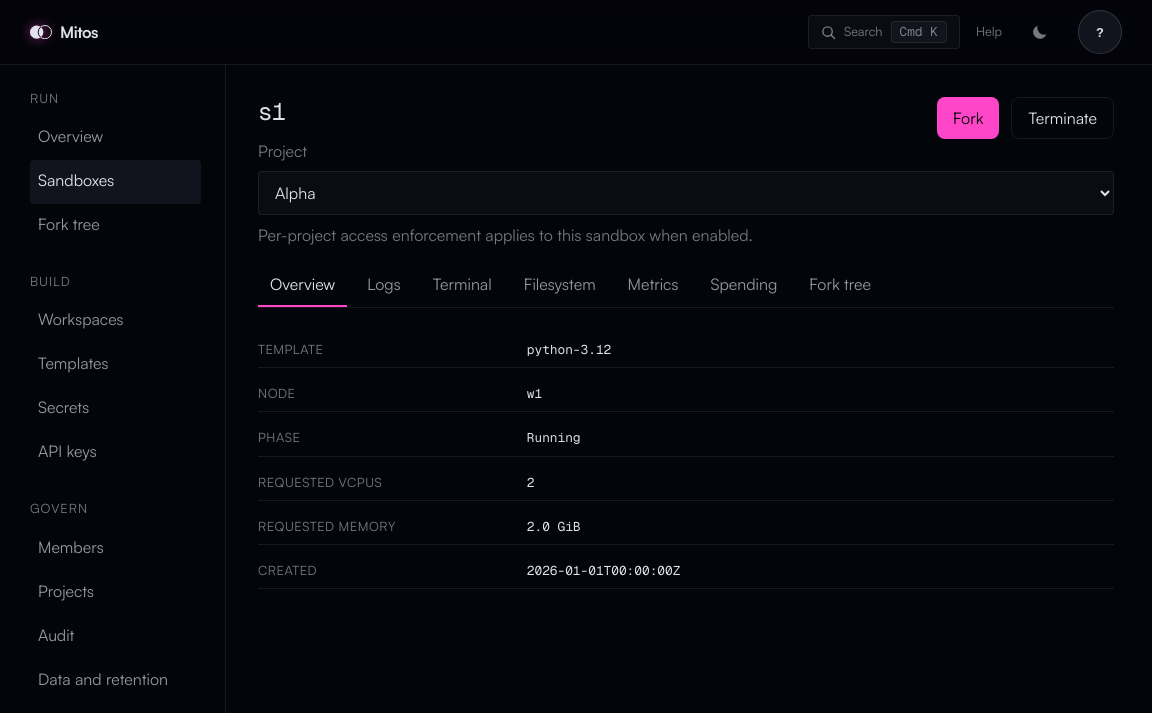
SandboxDetail › Logs tab Live toggle switches to the SSE stream
This screenshot has width=1152, height=713.
Expected: the heading "s1" is shown, [258,100,285,124]
Click the tab "Logs": point(384, 285) [355,263,413,307]
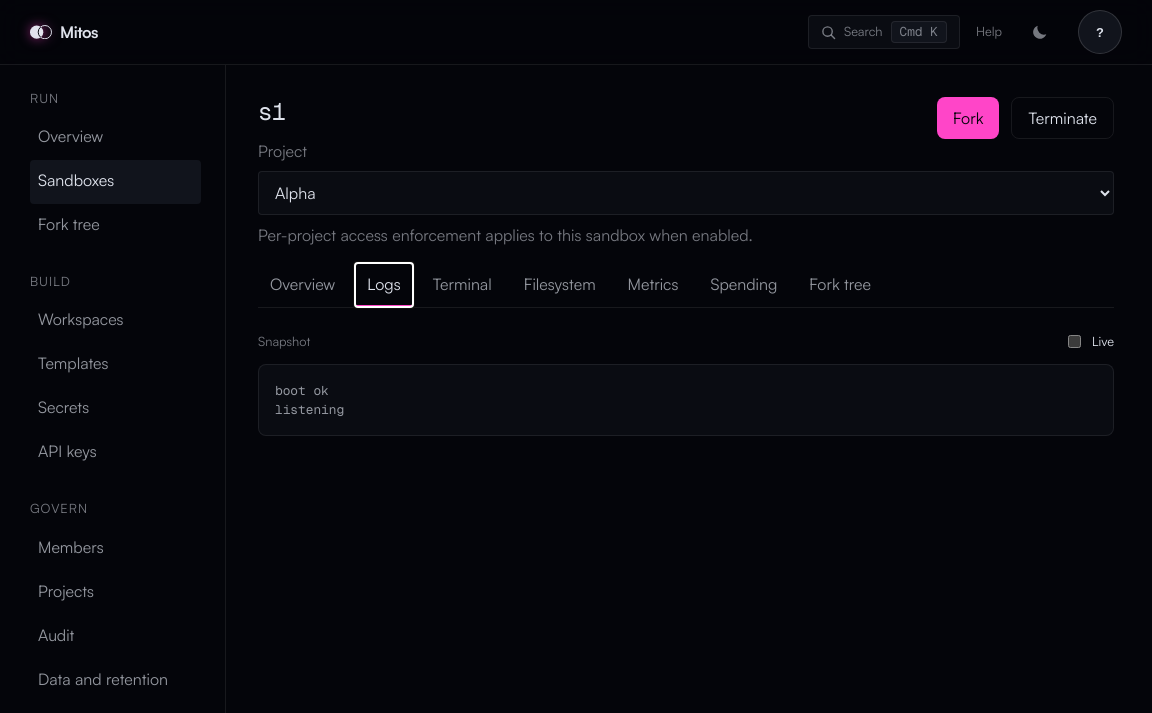
Expected: the text "boot ok listening" is shown, [258,364,1114,436]
Click the checkbox named "live logs": point(1074, 342) [1068,335,1081,348]
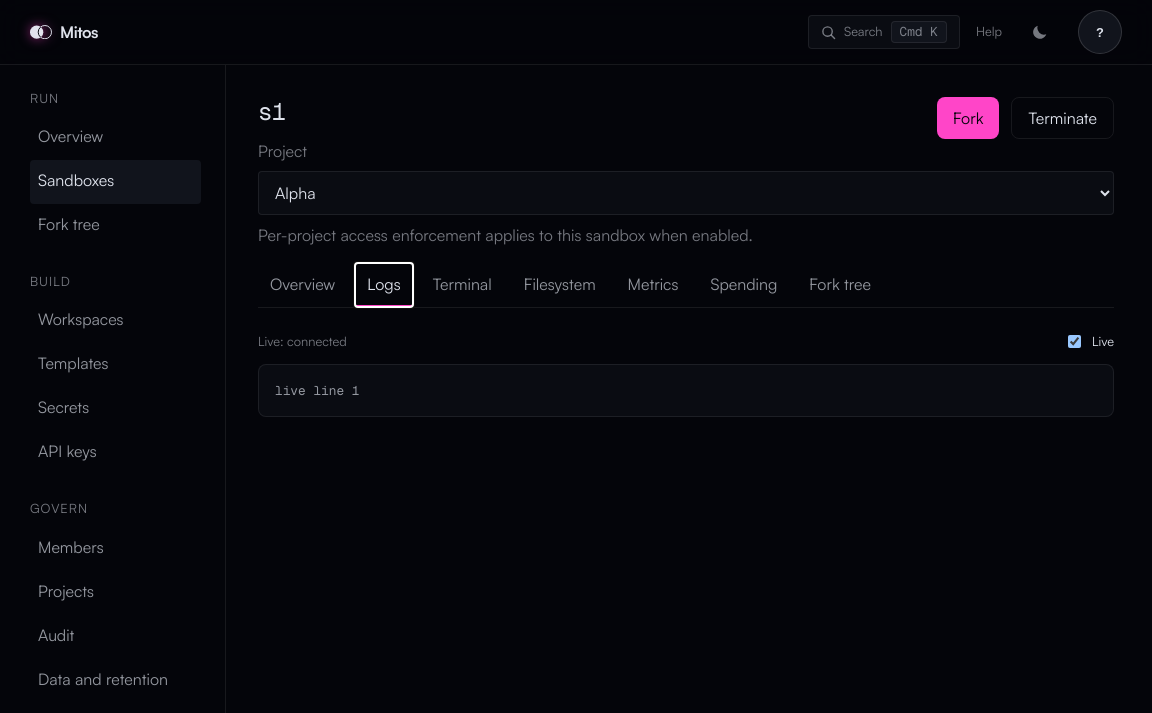
Expected: the text "live line 1" is shown, [258,364,1114,417]
